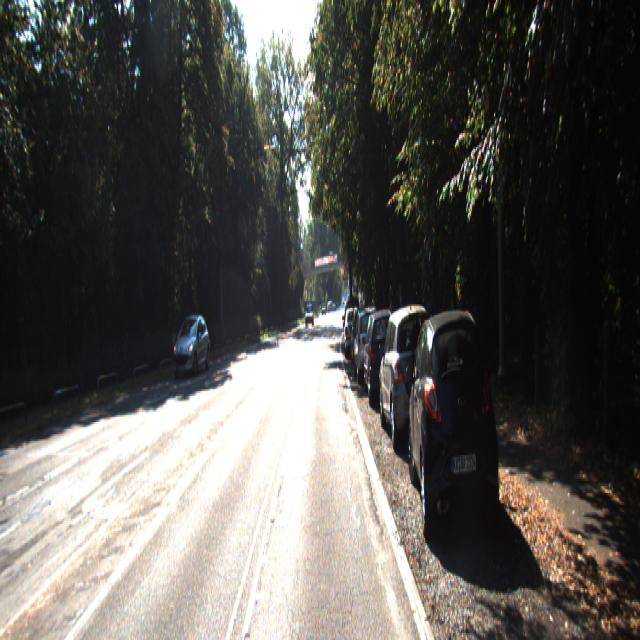Car: (406, 303, 504, 549), (378, 301, 443, 449), (363, 304, 401, 402), (171, 312, 211, 377), (353, 304, 384, 382), (344, 306, 362, 357)
DontCare: (304, 302, 313, 327), (322, 299, 335, 313)
